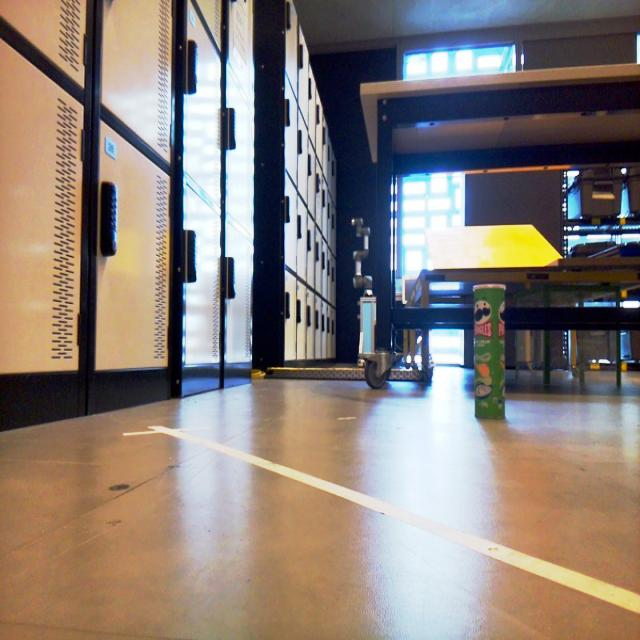greenpringles: (448, 263, 523, 432)
